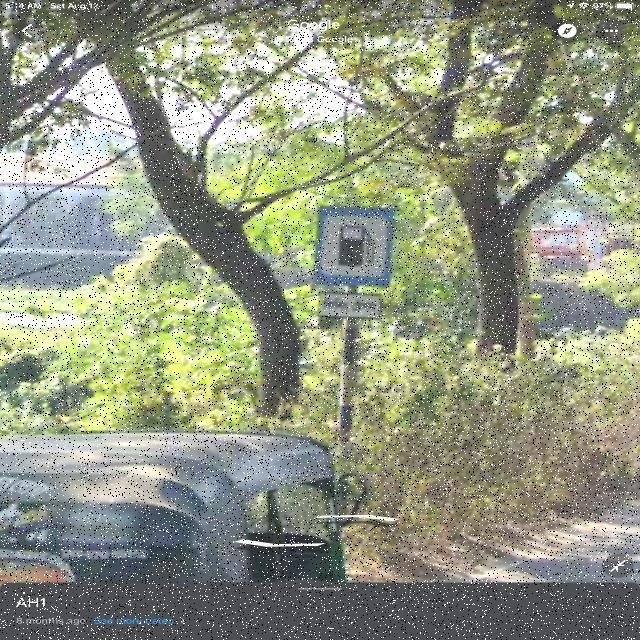Petrol-Station-in-front: (310, 194, 401, 331)
